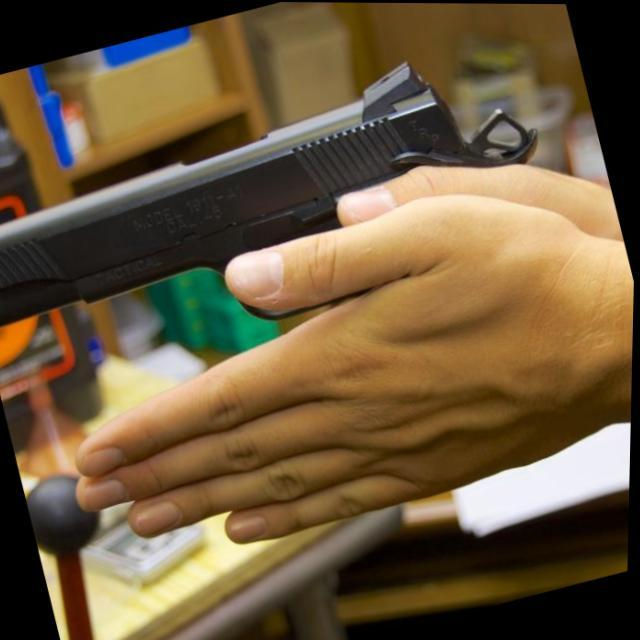weapon: (0, 27, 569, 392)
